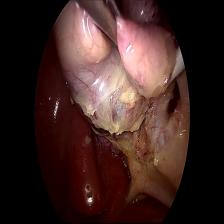Grasper: (79, 0, 125, 50)
